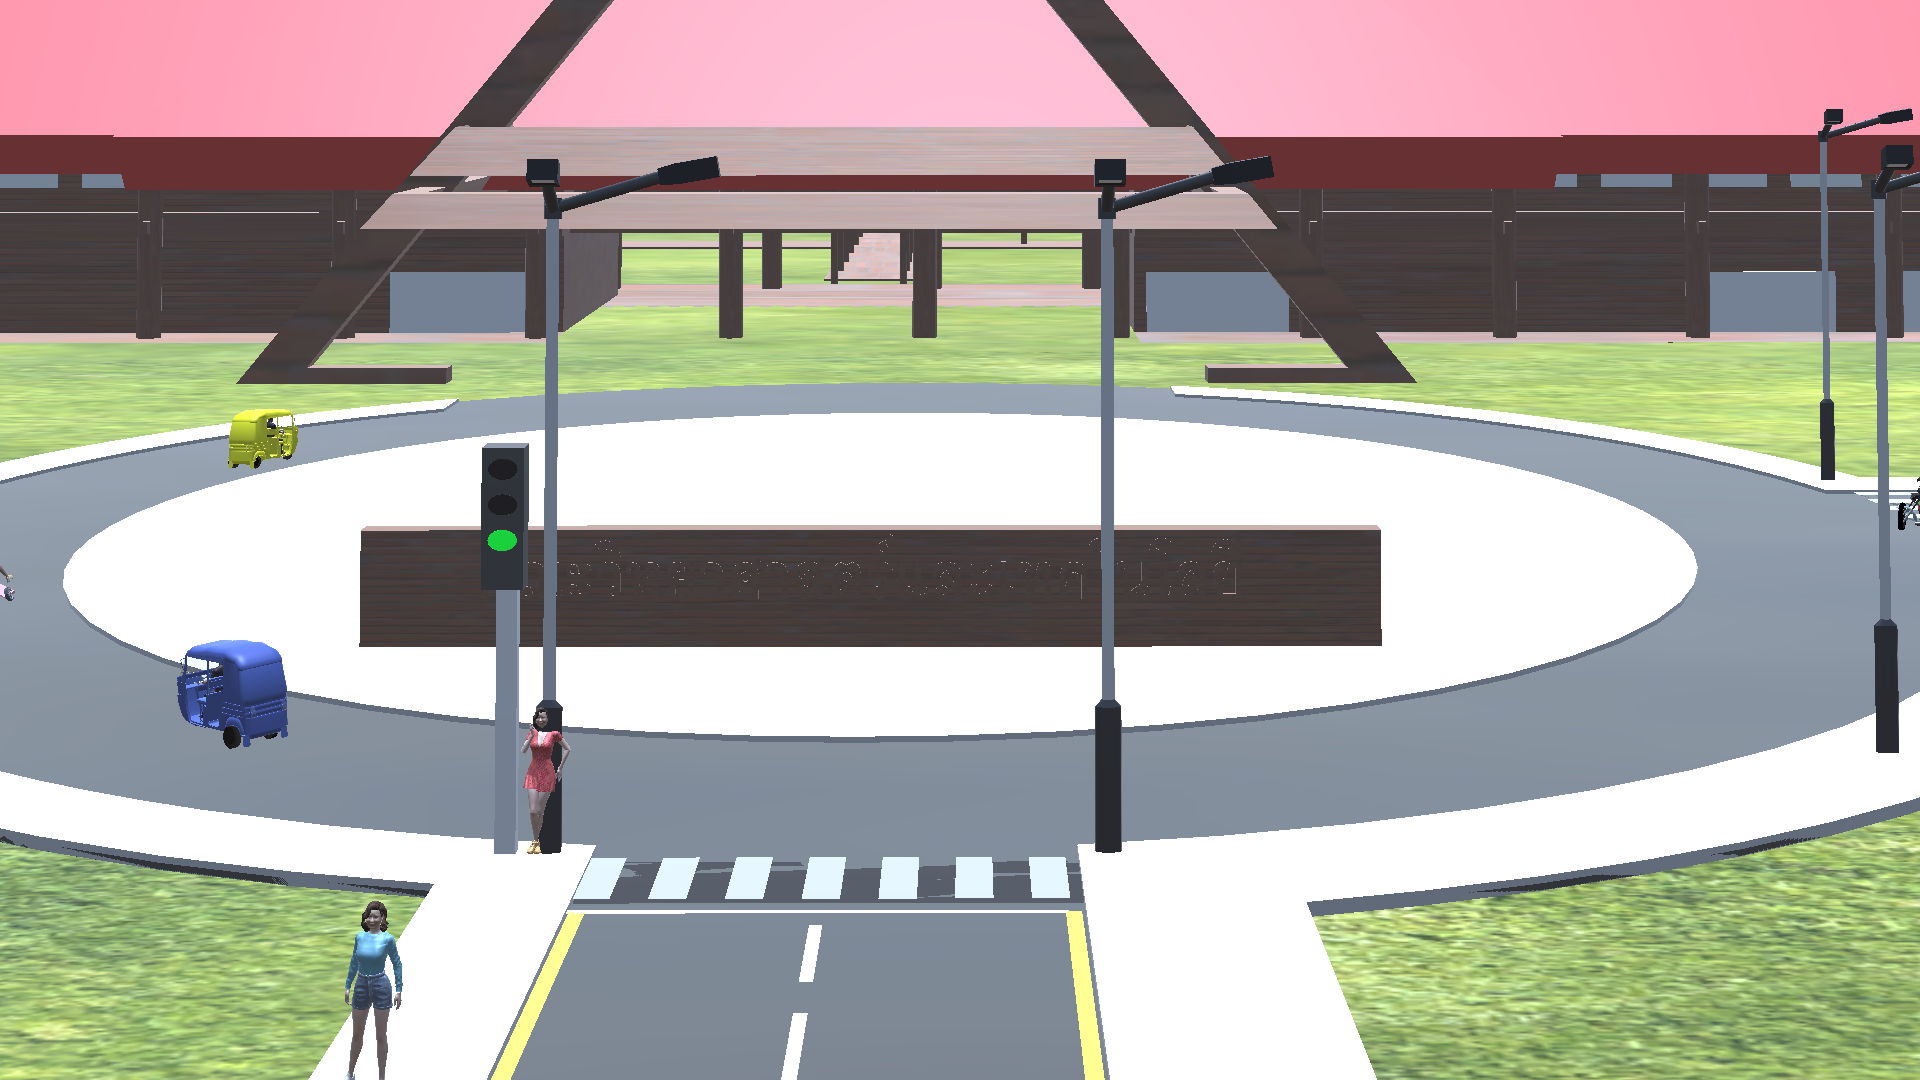pedestrian: (334, 897, 407, 1077), (519, 697, 559, 859)
